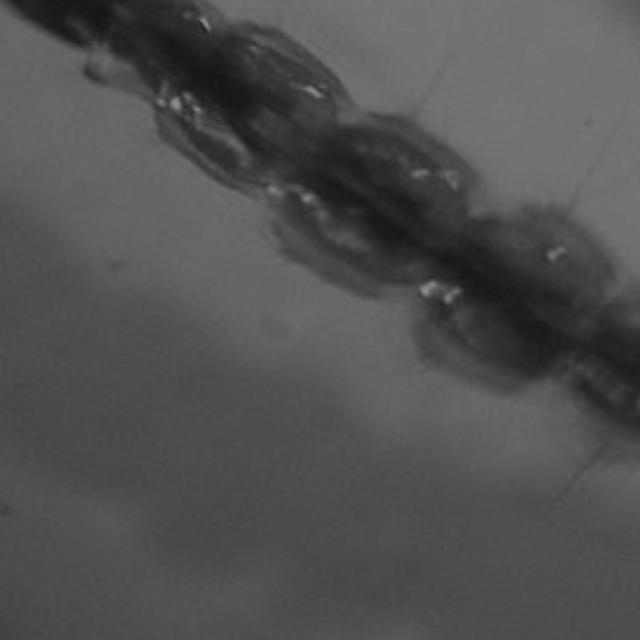larvas: (16, 0, 640, 433)
